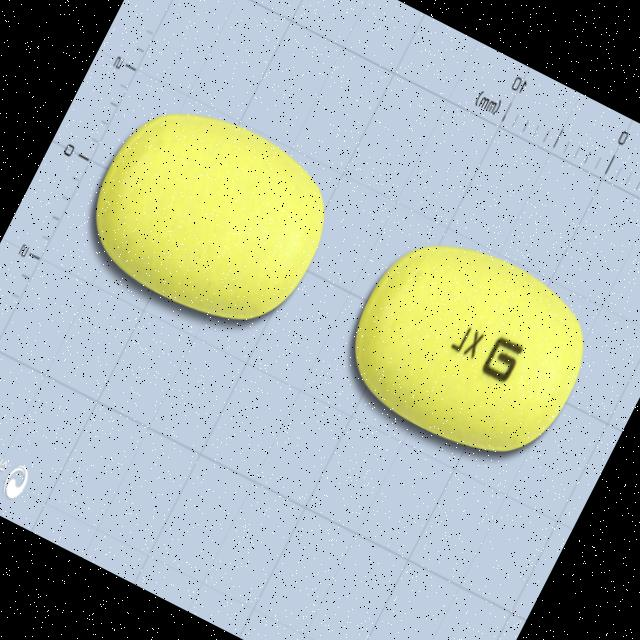Klaricid-Xl: (324, 212, 612, 484), (66, 80, 352, 350)
